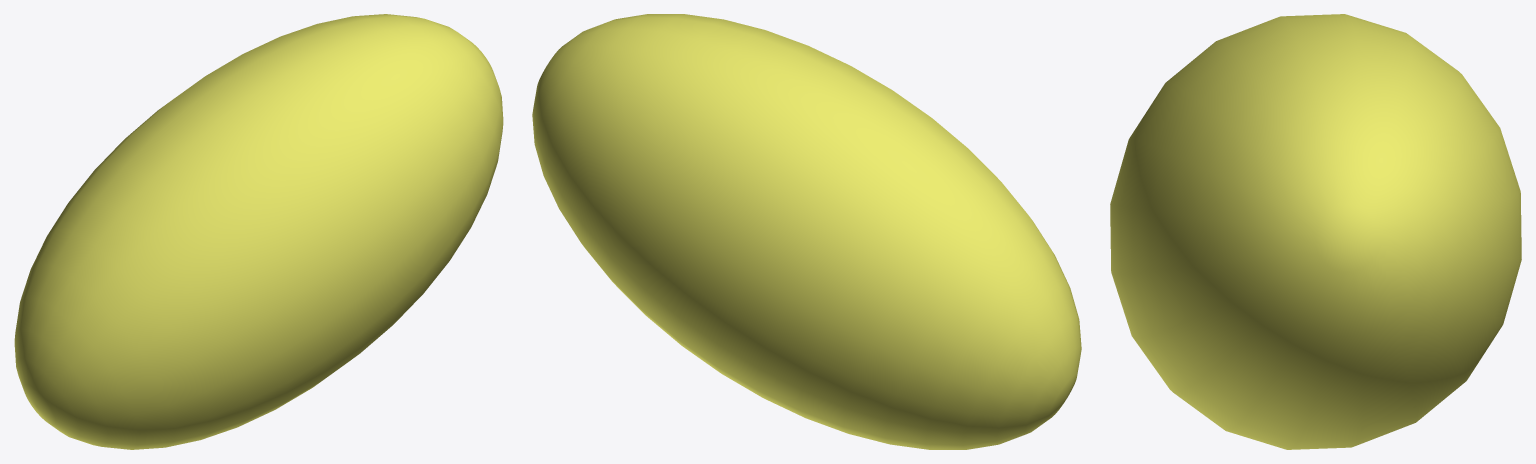
File: PROJECTILEYELLOW.fbx
3 renders of one model, left to right at view 1: azimuth 30°, elevation 25°; view 2: azimuth 150°, elevation 25°; view 3: azimuth 270°, elevation 25°, orthographic. The views are drawn at different scales.
Visible parts, largest first — view 1: pasted__polySurface115; view 2: pasted__polySurface115; view 3: pasted__polySurface115.
Boxes of the visible parts, box(x1,y1,x2,y2) form: pasted__polySurface115: box(14, 14, 503, 449); pasted__polySurface115: box(532, 14, 1081, 449); pasted__polySurface115: box(1110, 14, 1521, 449).
Size of the model in its own units: 3.45 by 2.35 by 1.89.
